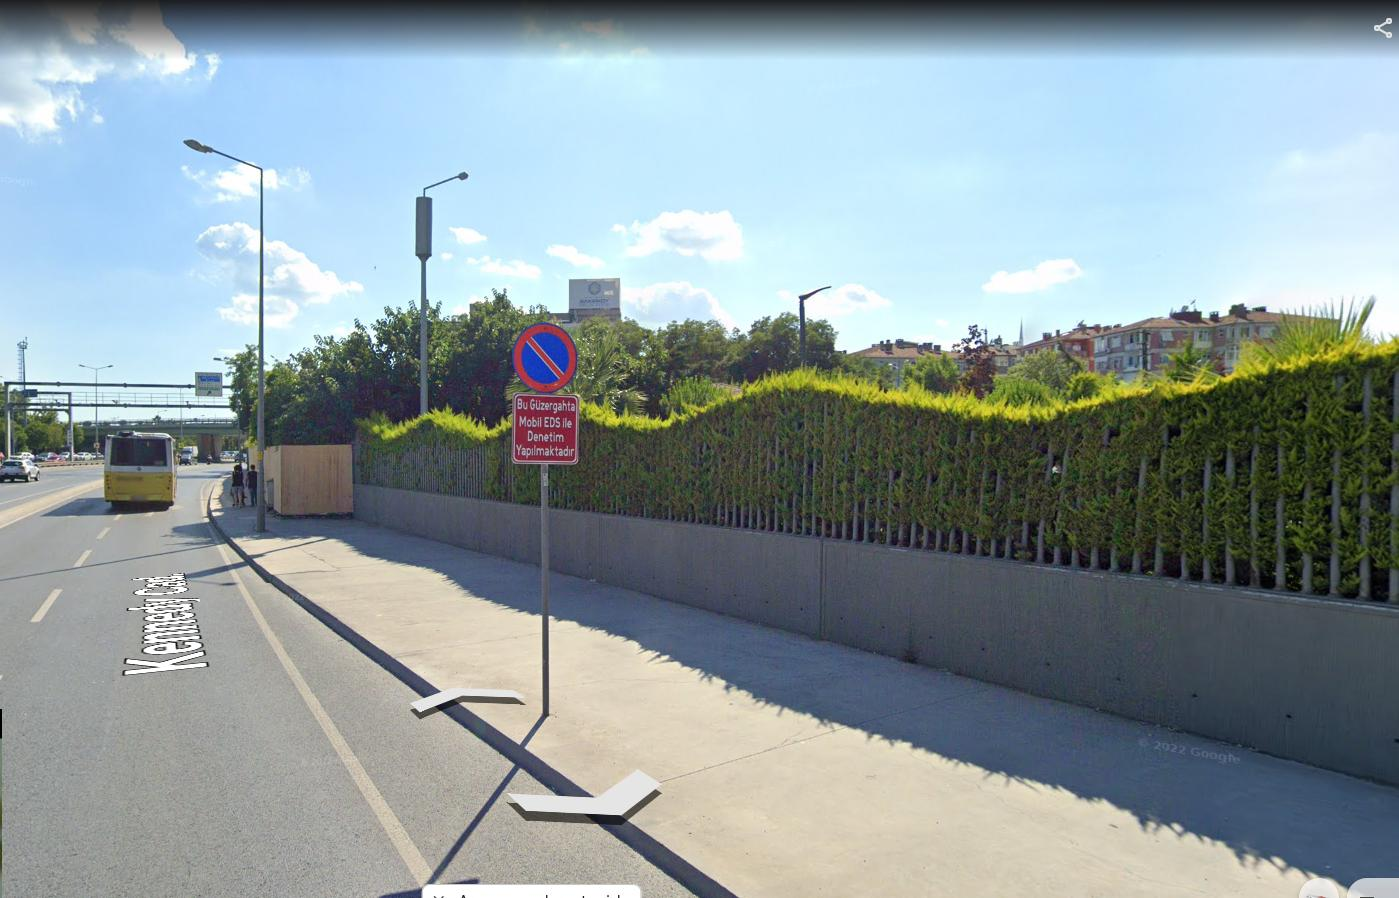stop: (512, 319, 575, 391)
